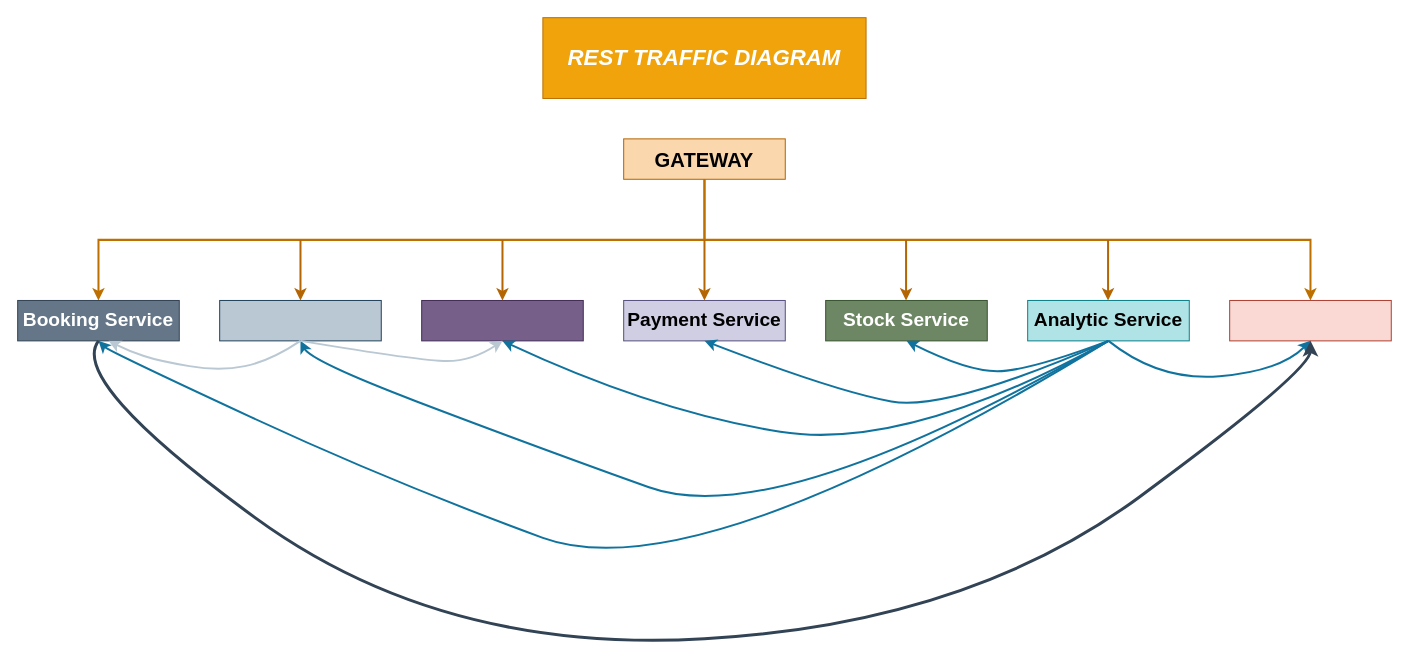
Image size: 1409x660. Some labels were removed from this diagram. Here are the shapes that lost their labels. From the top down, the centre of each, then its label:
the point at 300,320: Organization Service
the point at 502,320: Order Service
the point at 1310,320: User Service
